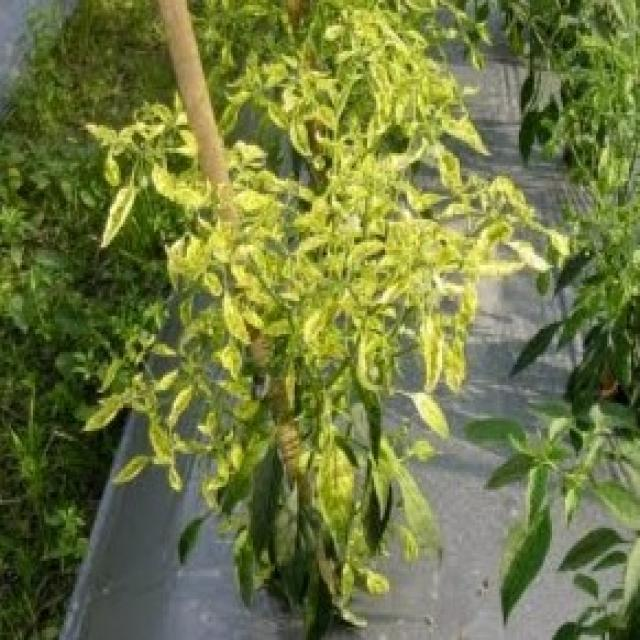virus_kuning: (94, 174, 142, 268), (408, 392, 456, 444), (222, 298, 260, 349)
